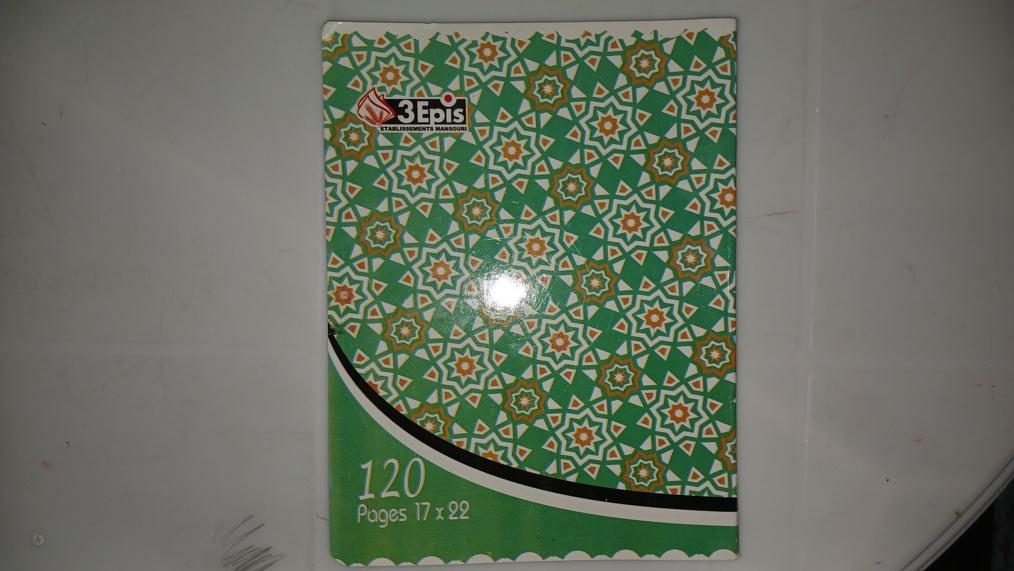notebook: (326, 16, 740, 566)
